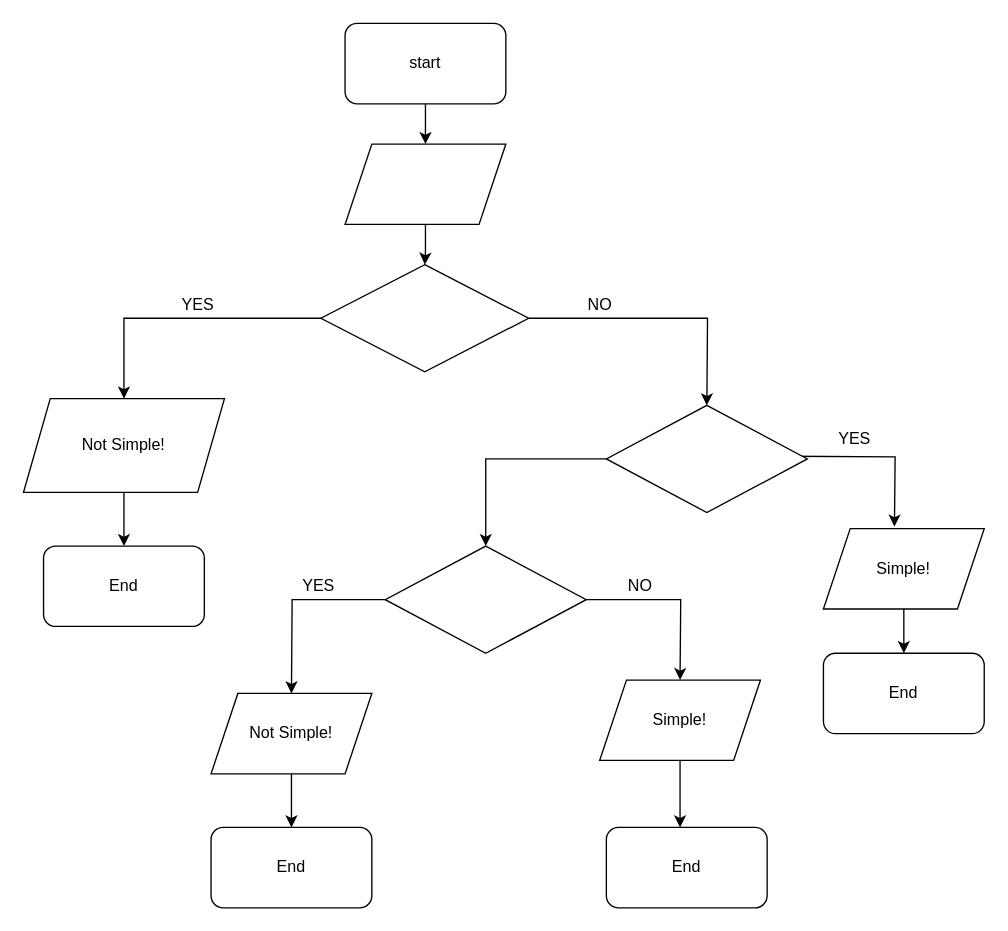
This 1008x931 diagram has some shape labels left out. Here are the shapes that lost their labels. From the top down, the centre of each, then its label:
point (425, 183): cin>>a
point (424, 317): a==1?
point (706, 458): a==2 or a==3 or a==5 or a==7
point (485, 599): a%2==0 a%3==0 a%5==0 a%7==0
